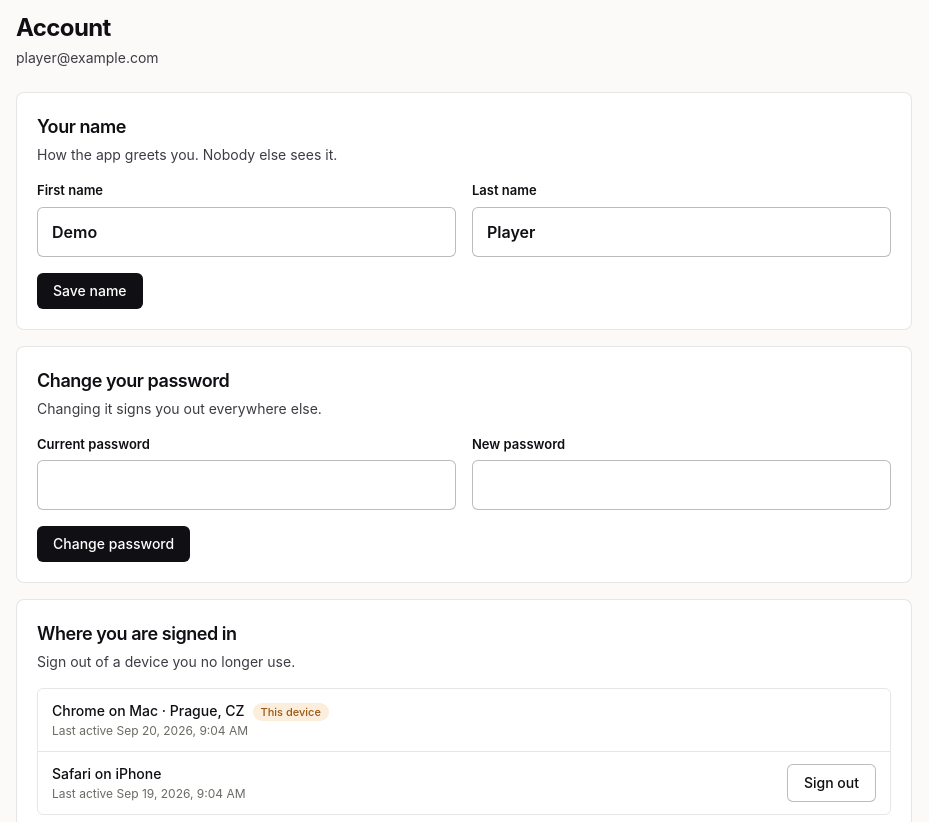
Test case: AccountPage › lists the signed-in devices and signs out of another one, never this one
Expected: the text "This device" is shown, [252, 703, 329, 721]
Click the button "Sign out" at [832, 783], box [787, 764, 876, 802]
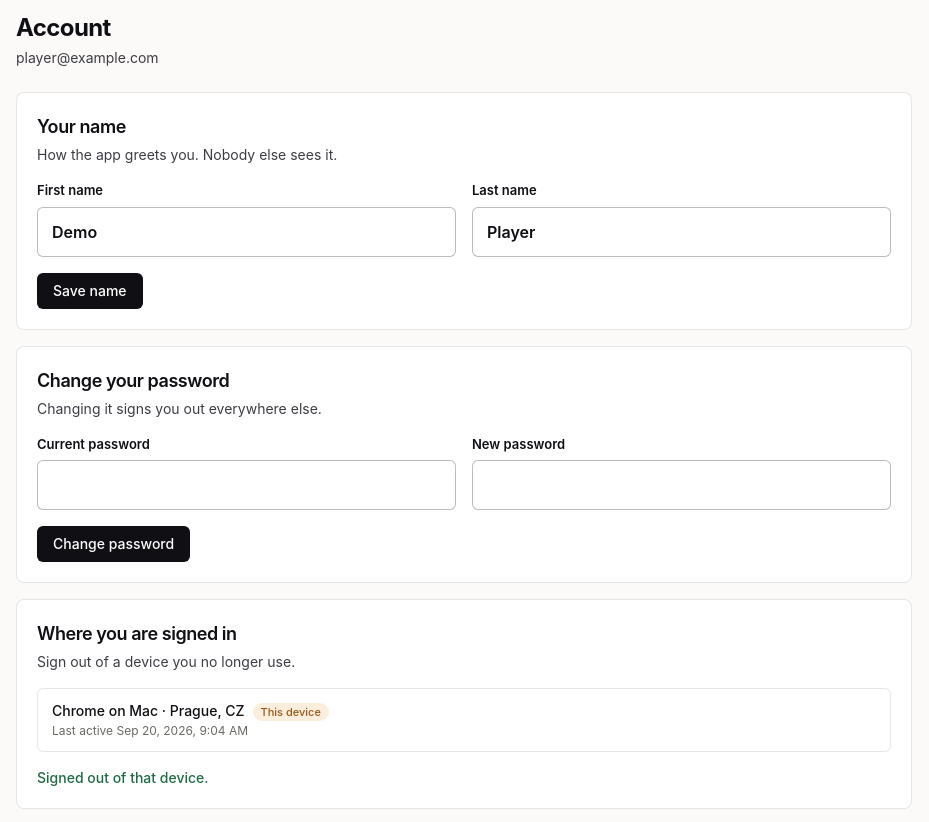
Expected: the text "Signed out of that device." is shown, [37, 769, 208, 786]
Expected: the text "Safari on iPhone" is gone
